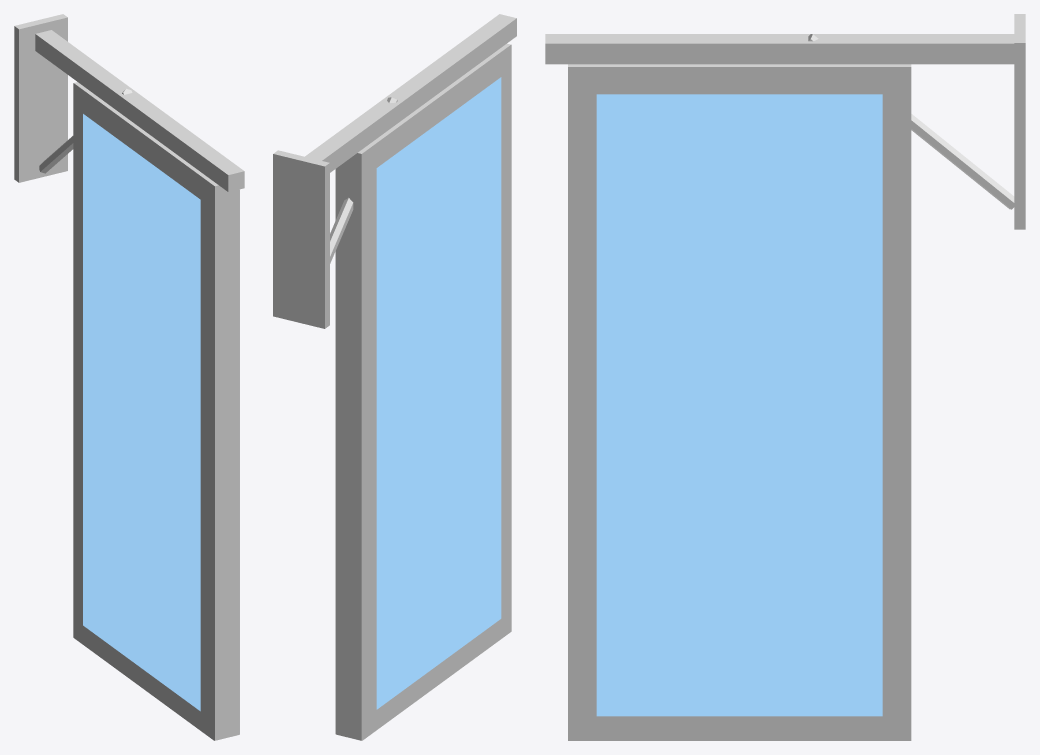
File: sign_katanakaji_vertical.glb
The picture shows the model from 3 angles, left to right: view 1: azimuth 30°, elevation 25°; view 2: azimuth 150°, elevation 25°; view 3: azimuth 270°, elevation 25°; orthographic projection. The views are drawn at different scales.
Parts seen in each view (by area): view 1: sign_katanakaji_vertical_LOD0; view 2: sign_katanakaji_vertical_LOD0; view 3: sign_katanakaji_vertical_LOD0.
Part boxes in pixels (bbox=[...]): sign_katanakaji_vertical_LOD0: bbox=[14, 14, 244, 740]; sign_katanakaji_vertical_LOD0: bbox=[273, 14, 516, 740]; sign_katanakaji_vertical_LOD0: bbox=[545, 14, 1025, 740].
Size of what is drawn, in the model's own units: 0.12 by 1.36 by 0.84.
